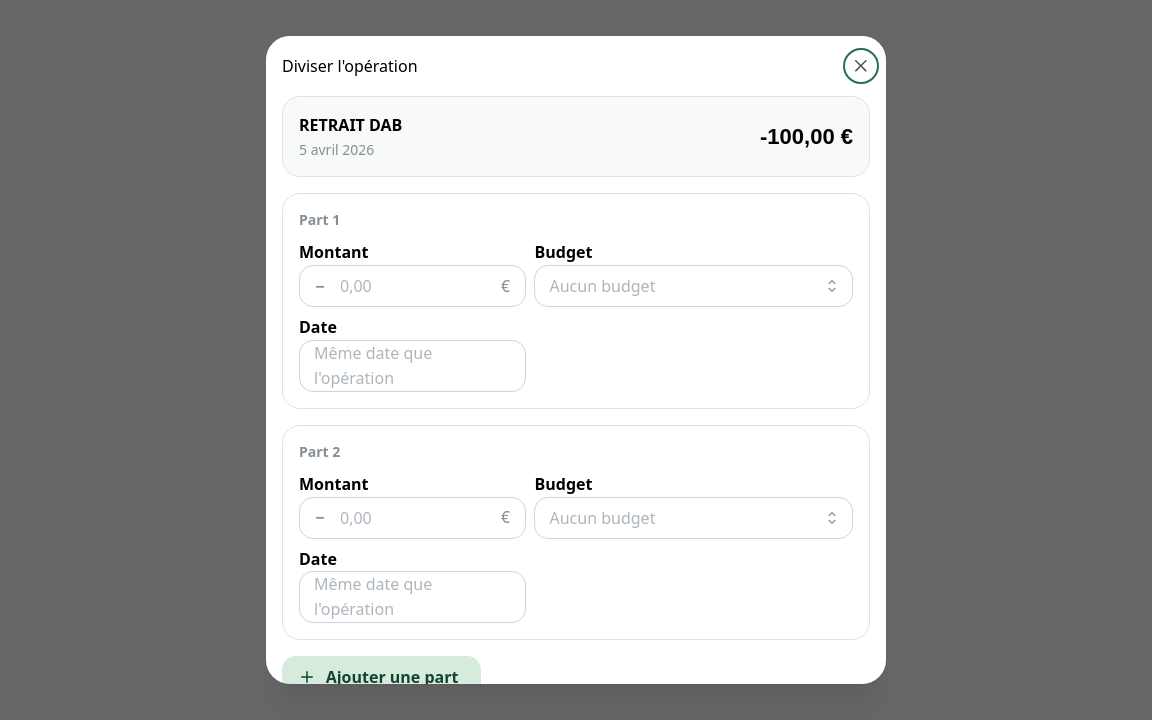
Scenario: SplitOperationModal › shows an error when the API rejects the split
This screenshot has width=1152, height=720.
In the field named "Montant (Part 1)": (413, 286) [299,265,526,307], type "50"
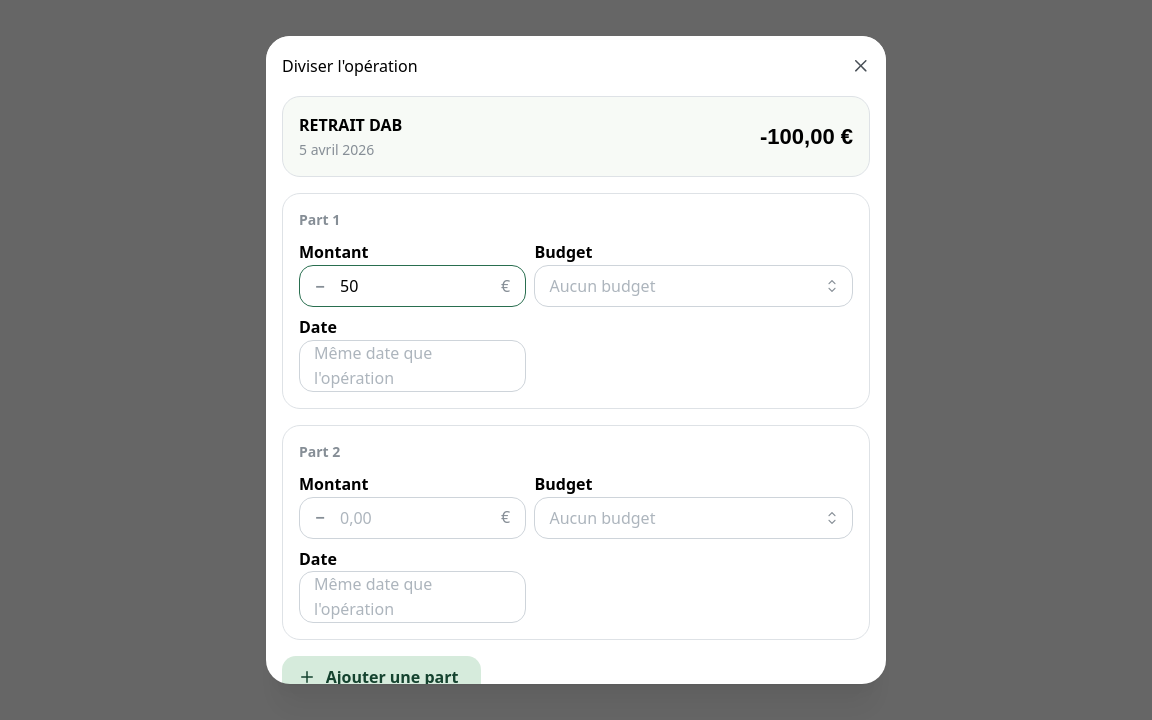
In the field named "Montant (Part 2)": (413, 518) [299,497,526,539], type "50"
(page scrolled)
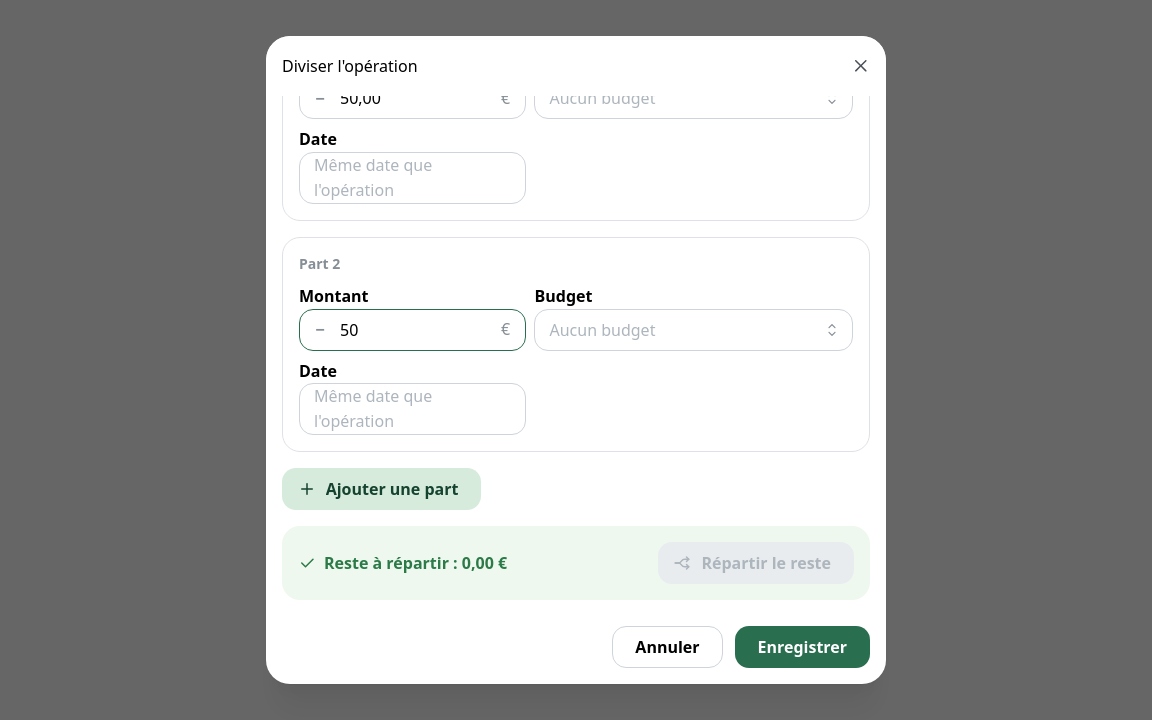
Click the button "Enregistrer": (802, 647) [734,626,870,668]
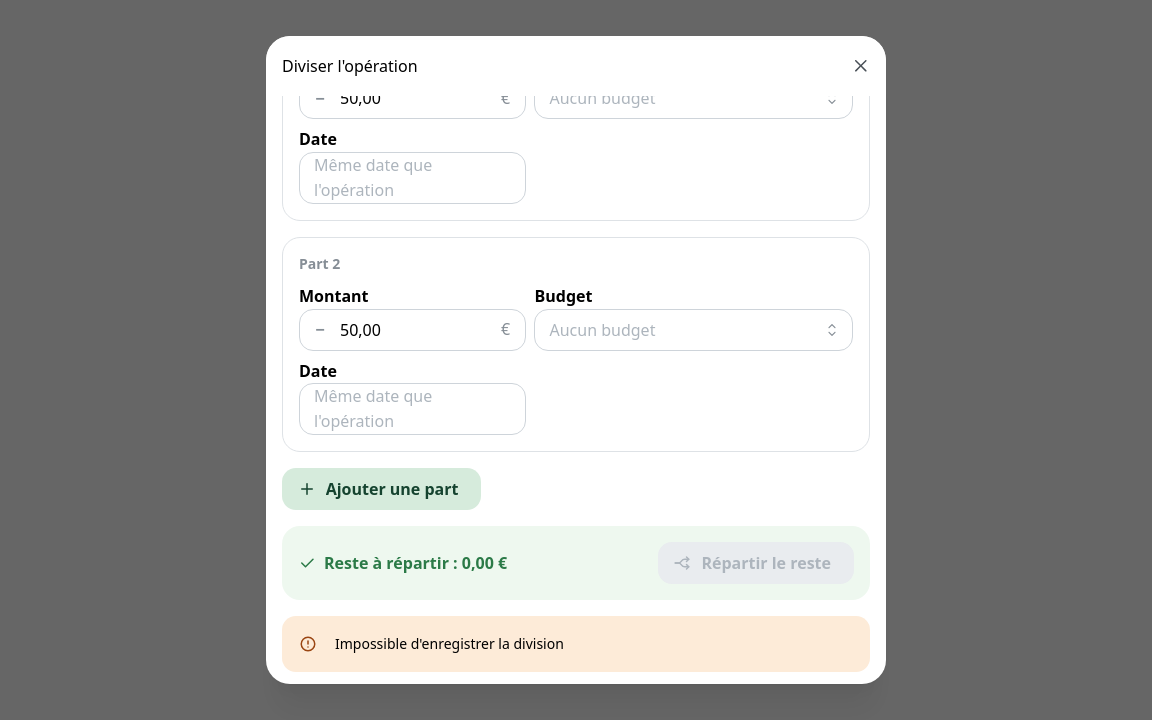
Expected: the text "Impossible d'enregistrer la division" is shown, [335,634,564,653]
